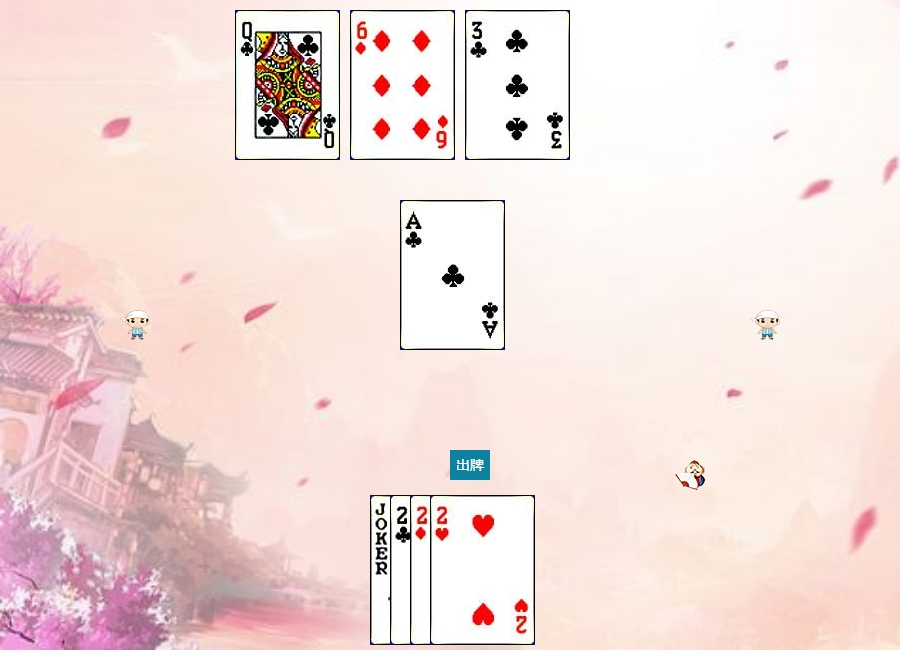12~2: (235, 10, 340, 160)
14~2: (400, 200, 505, 350)
15~1: (410, 495, 515, 645)
15~2: (390, 495, 495, 645)
15~3: (430, 495, 535, 645)
17~3: (370, 495, 475, 645)
3~2: (465, 10, 570, 160)
6~1: (350, 10, 455, 160)
